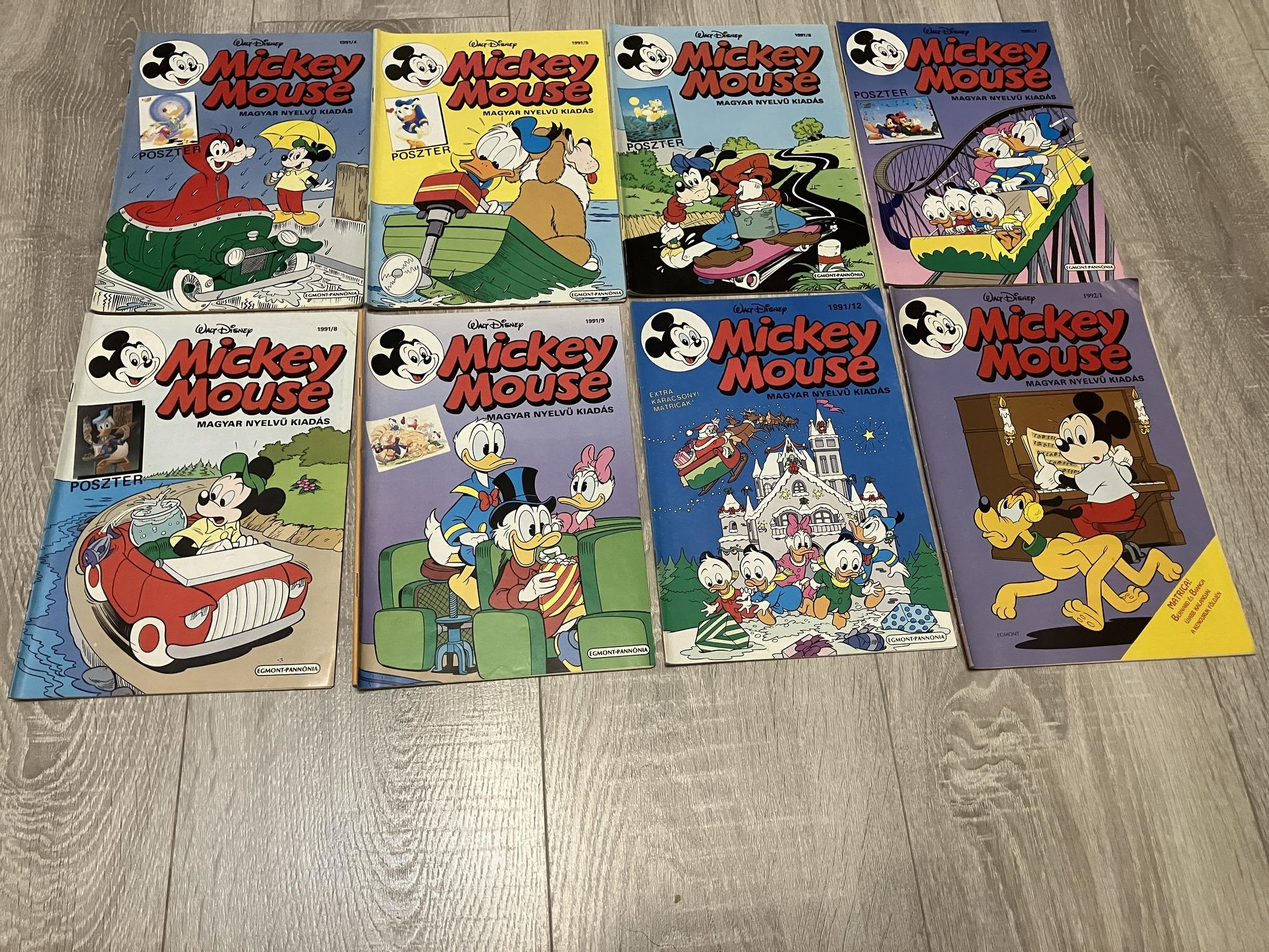comic: (885, 231, 1254, 711), (10, 298, 359, 710), (632, 276, 956, 671), (346, 305, 655, 688), (838, 0, 1123, 317), (607, 9, 877, 304), (91, 32, 373, 312), (366, 30, 625, 308)
